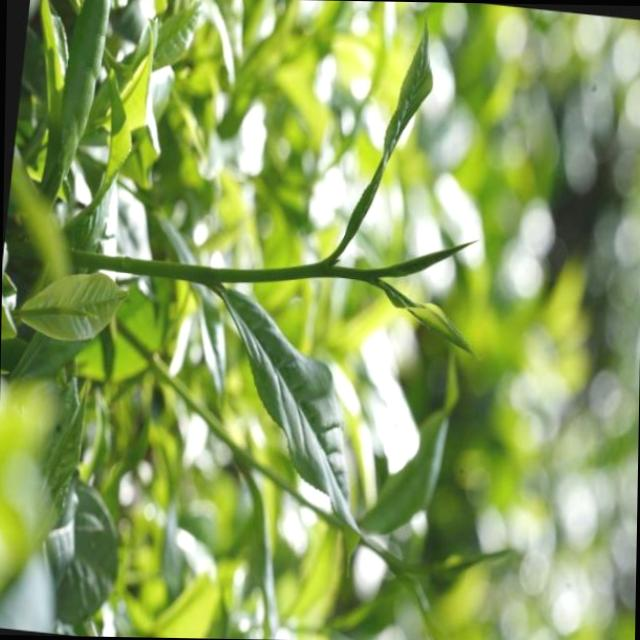Stem: (312, 263, 331, 276)
